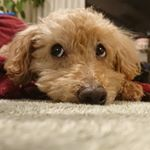puppy: (4, 5, 149, 106)
